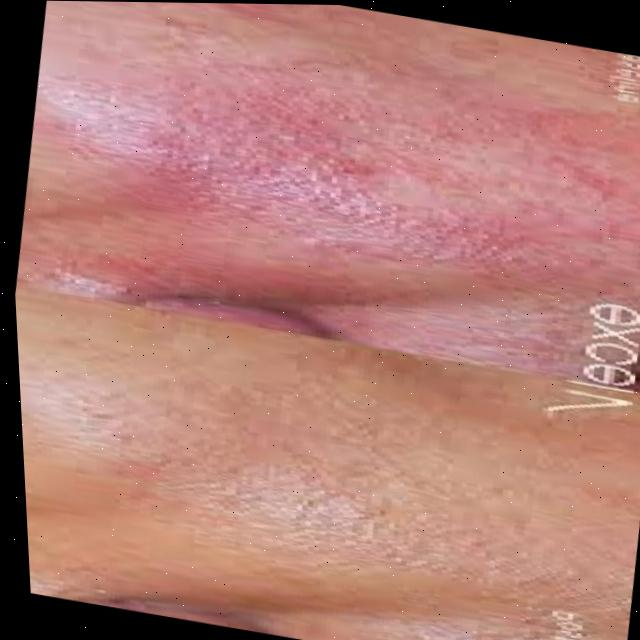Rosacea: (143, 43, 640, 270)
